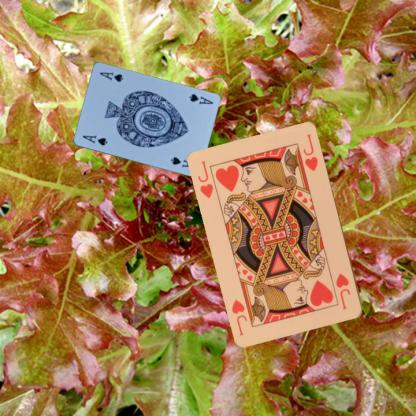As: (186, 91, 214, 106), (80, 133, 108, 147)
Jh: (195, 158, 215, 200), (333, 271, 352, 311)
